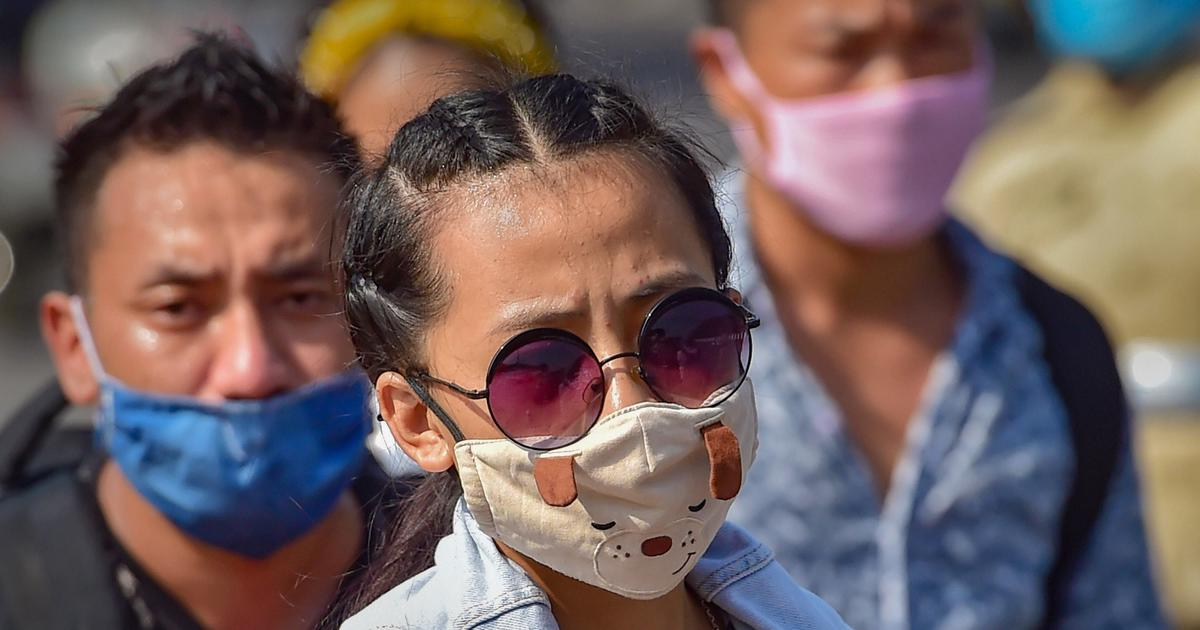with_incorrect_mask: (99, 193, 354, 533)
with_mask: (441, 224, 765, 592)
